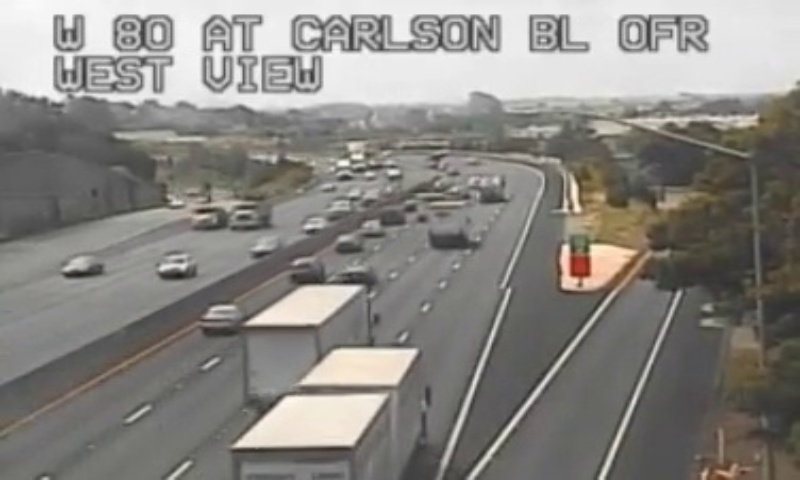car: (200, 304, 242, 332), (340, 263, 376, 286), (290, 258, 322, 281)
small-truck: (427, 200, 468, 245)
truck: (231, 344, 427, 480), (240, 283, 370, 406)
